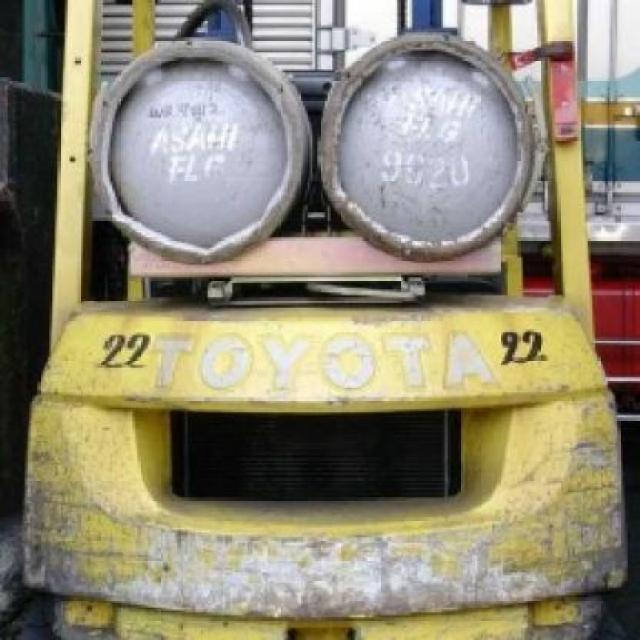forklift: (20, 1, 627, 640)
